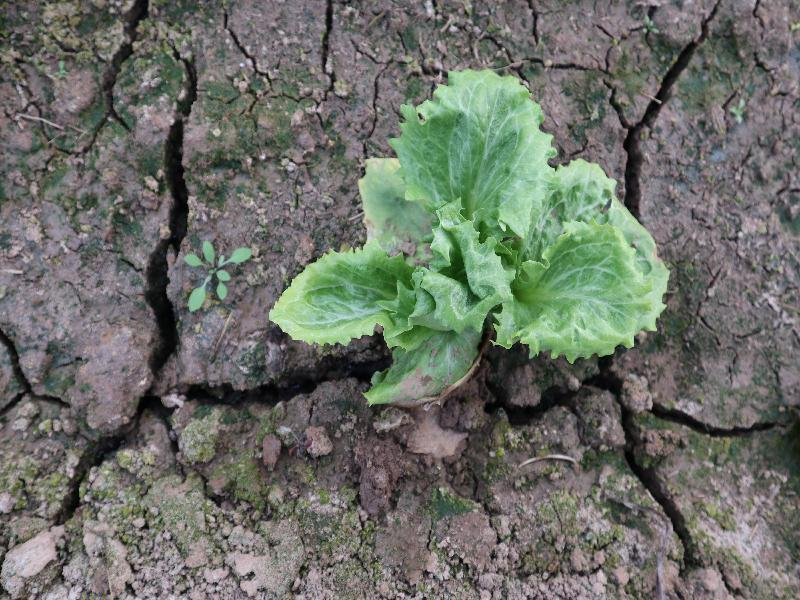lettuce: (265, 66, 671, 405)
